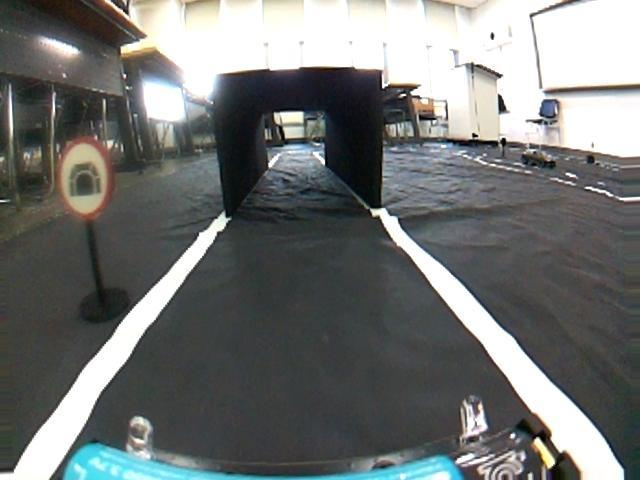sign_tunnel: (55, 137, 115, 223)
straight: (0, 201, 630, 480)
